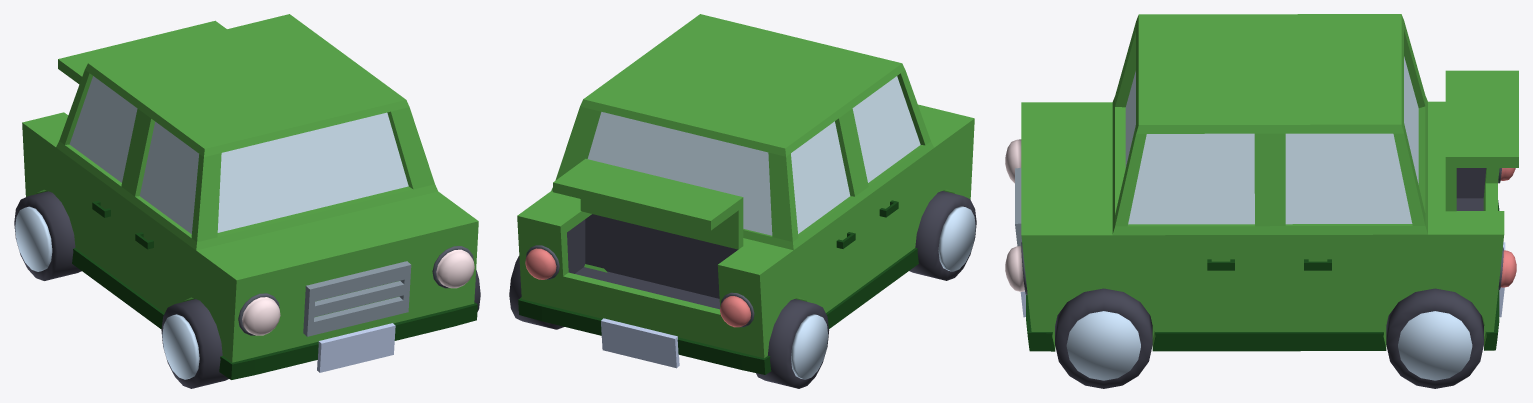
The model's file is green car truck.fbx.
3 renders of one model, left to right at view 1: azimuth 30°, elevation 25°; view 2: azimuth 150°, elevation 25°; view 3: azimuth 270°, elevation 25°, orthographic. The views are drawn at different scales.
Parts seen in each view (by area): view 1: car, wheels, vent, front lights, plate, bagage; view 2: car, wheels, bagage, plate.001, back lights, door handle; view 3: car, wheels, bagage, front lights, back lights, door handle, vent.
Part boxes in pixels (box(x1,y1,x2,y2)): car: box(22, 14, 478, 379); wheels: box(14, 191, 480, 388); vent: box(303, 261, 411, 336); front lights: box(238, 246, 474, 335); plate: box(317, 323, 395, 372); bagage: box(58, 20, 226, 84); car: box(517, 14, 974, 374); wheels: box(509, 191, 976, 388); bagage: box(553, 158, 743, 249); plate.001: box(601, 318, 679, 368); back lights: box(525, 245, 754, 327); door handle: box(836, 200, 898, 248); car: box(1021, 14, 1504, 351); wheels: box(1055, 288, 1483, 388); bagage: box(1445, 70, 1518, 211); front lights: box(1005, 139, 1027, 294); back lights: box(1498, 168, 1516, 289); door handle: box(1207, 259, 1331, 270); vent: box(1015, 168, 1021, 246).
Size of the model in its own units: 235 by 171 by 327.
